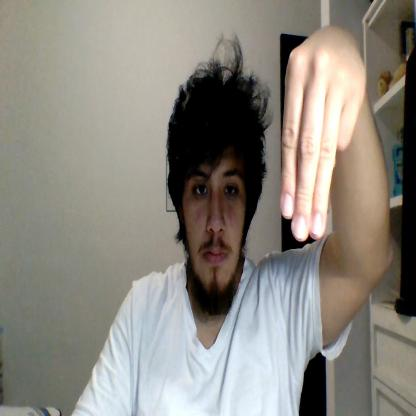M: (281, 26, 366, 241)
